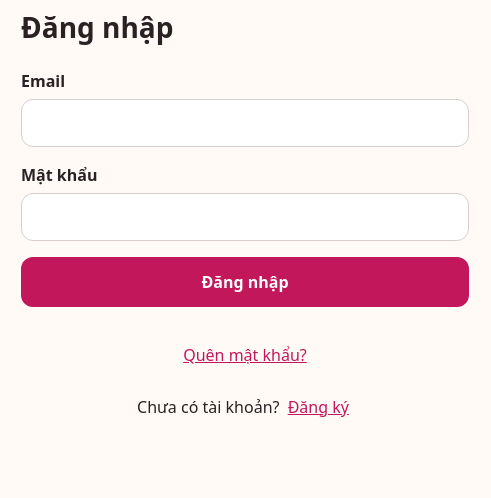
Scenario: SignInPage shows invalid_credentials message
Type "an@example.com" into the field labelled "Email" at coordinates (245, 123), box [21, 99, 469, 147]
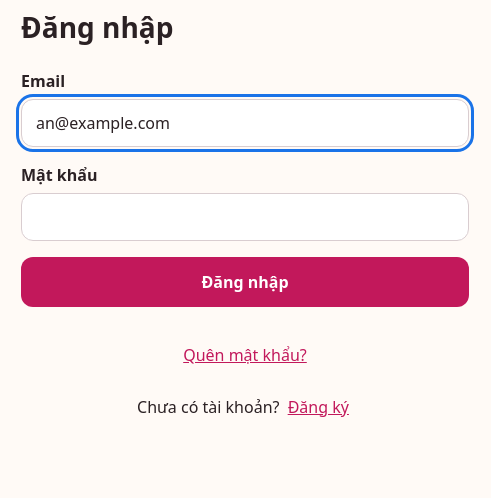
Type "sai-mat-khau" into the password field labelled "Mật khẩu" at coordinates (245, 217), box [21, 193, 469, 241]
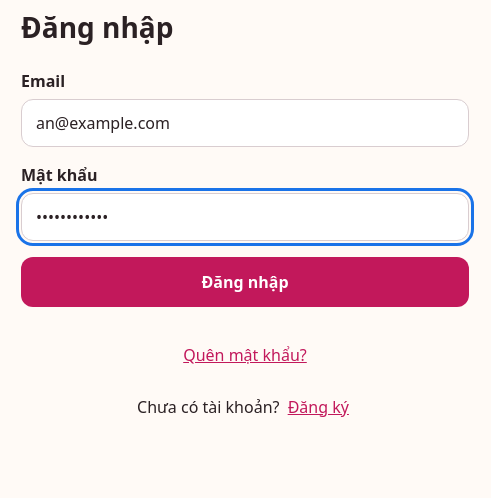
Click the button "Đăng nhập" at coordinates (245, 282), box [21, 257, 469, 307]
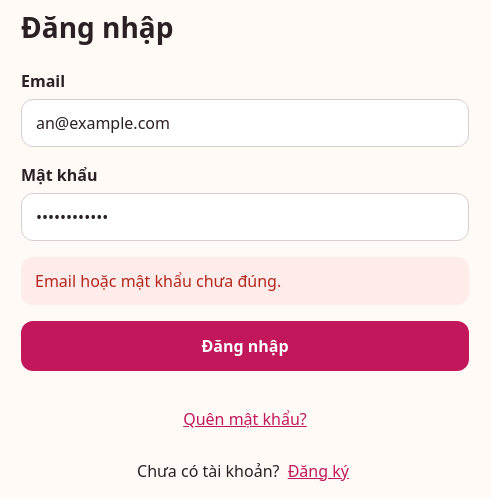
Expected: the button "Đăng nhập" is enabled, [21, 321, 469, 371]
Now the message reads "Email hoặc mật khẩu chưa đúng.", box [35, 270, 281, 292]
